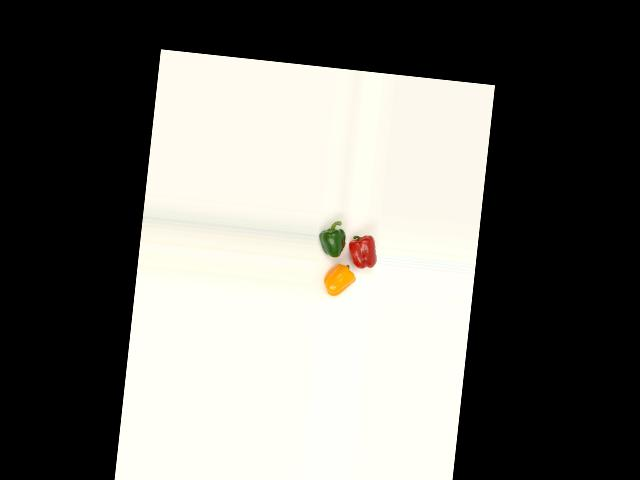bell_pepper: (316, 217, 349, 258)
